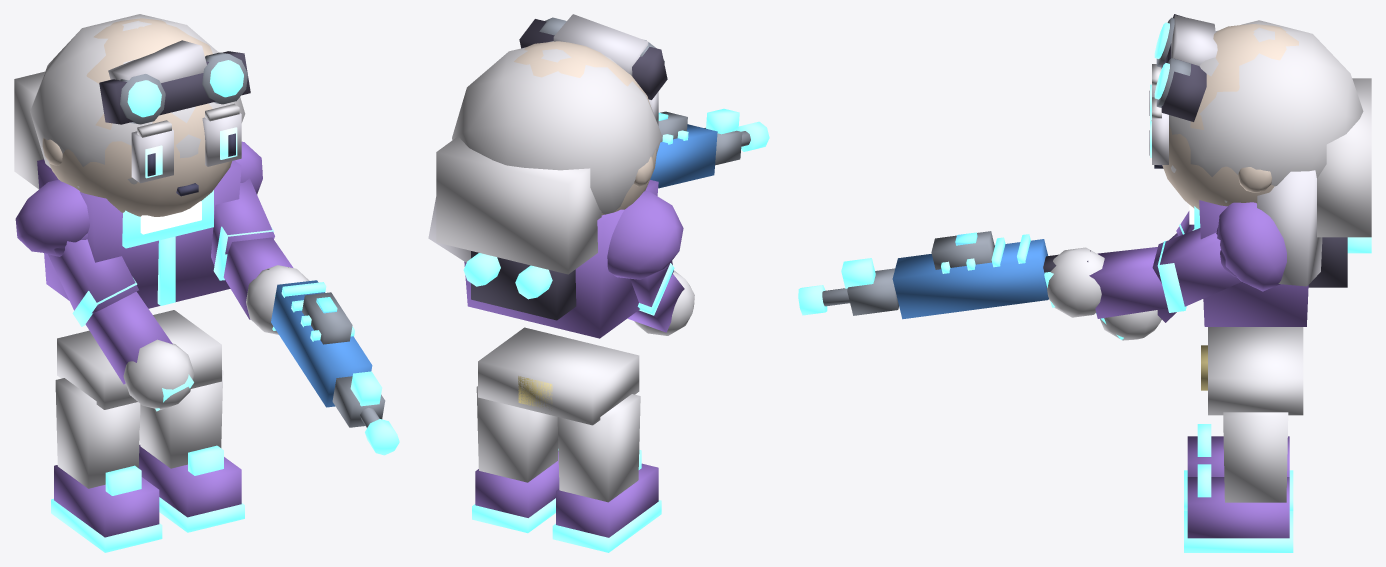
File: hero_phantom.glb
3 renders of one model, left to right at view 1: azimuth 30°, elevation 25°; view 2: azimuth 150°, elevation 25°; view 3: azimuth 270°, elevation 25°, orthographic. The views are drawn at different scales.
Parts seen in each view (by area): view 1: SuitPurple, SuitWhite, NeonCyan, HairWhite, SkinLight, ClothWhite, ArmorIron, SuitBlue, SuitDark, NeonWhite, EyeNeon, EyeDark; view 2: HairWhite, SuitWhite, SuitPurple, NeonCyan, SuitDark, ClothWhite, SkinLight, SuitBlue, ArmorIron, ArmorGold; view 3: HairWhite, SuitPurple, SuitWhite, NeonCyan, SuitBlue, SkinLight, ClothWhite, ArmorIron, SuitDark.
Boxes of the visible parts, x1,y1,x2,y2 form: SuitPurple: (15,141,293,537); SuitWhite: (55,265,309,488); NeonCyan: (51,60,399,552); HairWhite: (14,14,245,189); SkinLight: (42,18,231,216); ClothWhite: (108,40,241,183); ArmorIron: (120,52,385,427); SuitBlue: (271,280,372,407); SuitDark: (99,51,288,269); NeonWhite: (140,201,201,234); EyeNeon: (145,127,237,178); EyeDark: (147,133,235,196); HairWhite: (436,41,661,274); SuitWhite: (476,270,694,502); SuitPurple: (464,180,684,537); NeonCyan: (463,108,769,552); SuitDark: (471,19,667,320); ClothWhite: (428,14,658,262); SkinLight: (514,41,656,215); SuitBlue: (650,124,717,188); ArmorIron: (539,17,750,165); ArmorGold: (518,376,552,407); HairWhite: (1151,20,1371,237); SuitPurple: (1089,200,1308,538); SuitWhite: (1046,247,1303,502); NeonCyan: (798,22,1371,552); SuitBlue: (892,239,1048,319); SkinLight: (1162,24,1298,209); ClothWhite: (1152,15,1322,286); ArmorIron: (822,17,1190,315); SuitDark: (1043,14,1347,287).
Bounding box in the file's own units: 0.8204 × 1.59 × 1.68.
